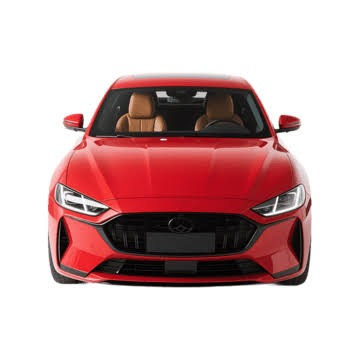car: (48, 77, 317, 292)
